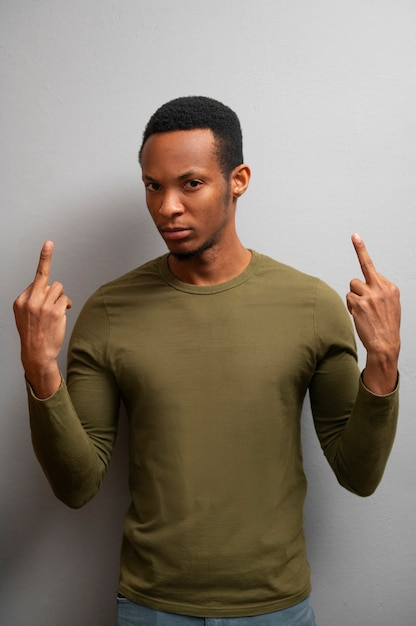insulting_gesture: (9, 240, 78, 365), (345, 230, 402, 353)
